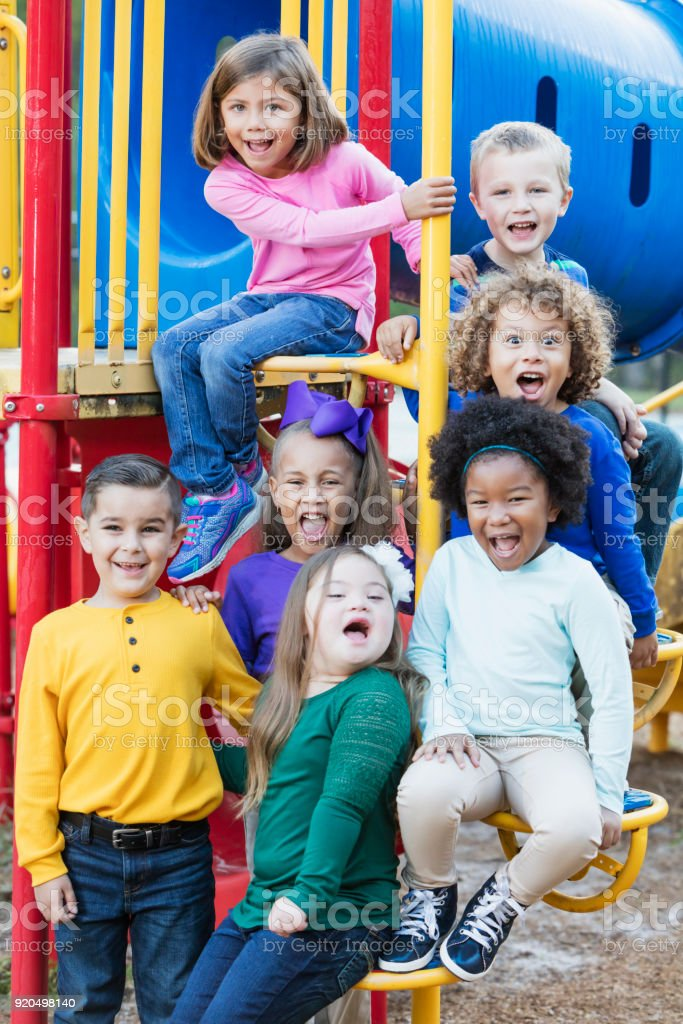human: (152, 23, 420, 577), (402, 400, 641, 992), (140, 521, 412, 1024), (1, 431, 212, 1024), (467, 264, 677, 612), (432, 94, 665, 343), (224, 383, 390, 715)
